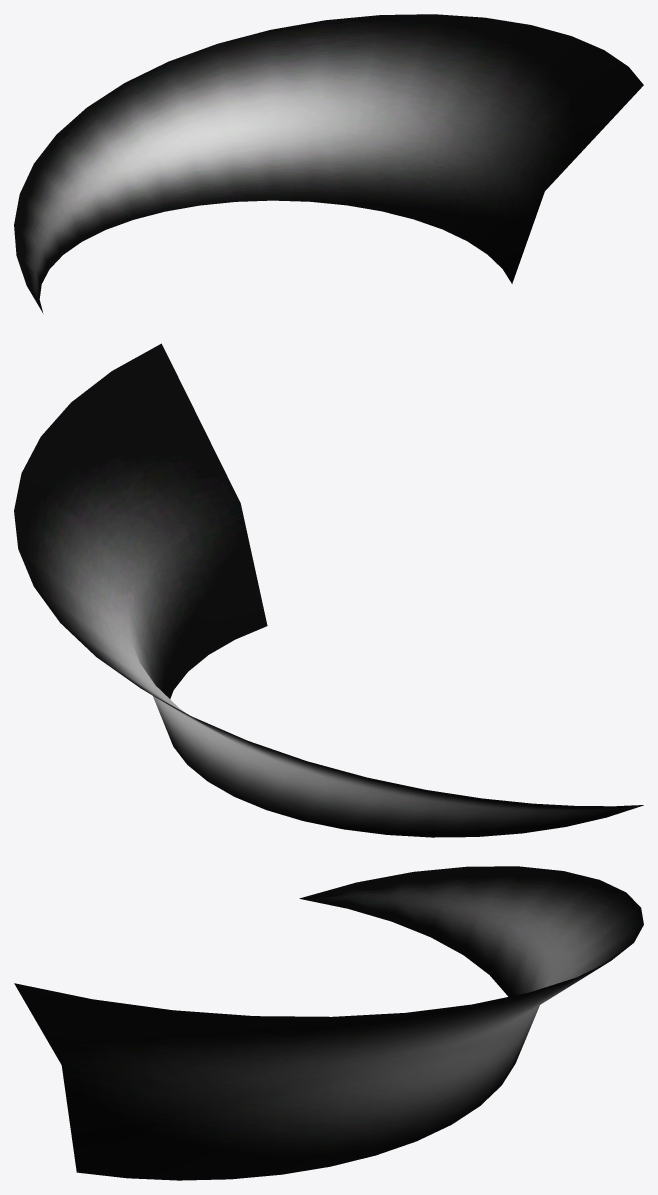
File: vfx_kurp_0694.dae
3 views of the same model, one above another, from view 1: azimuth 30°, elevation 25°; view 2: azimuth 150°, elevation 25°; view 3: azimuth 270°, elevation 25° (orthographic). The views are drawn at different scales.
Visible parts, largest first — view 1: vfx_kurp_0694; view 2: vfx_kurp_0694; view 3: vfx_kurp_0694.
Boxes of the visible parts, bbox=[...] form: vfx_kurp_0694: bbox=[14, 14, 643, 313]; vfx_kurp_0694: bbox=[14, 343, 643, 837]; vfx_kurp_0694: bbox=[14, 866, 643, 1180].
Bounding box in the file's own units: 14.28 × 10.81 × 5.
1 material, 1 textured.
